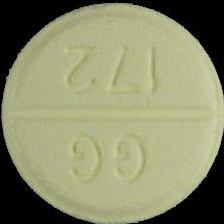10544-080: (0, 0, 224, 224)
